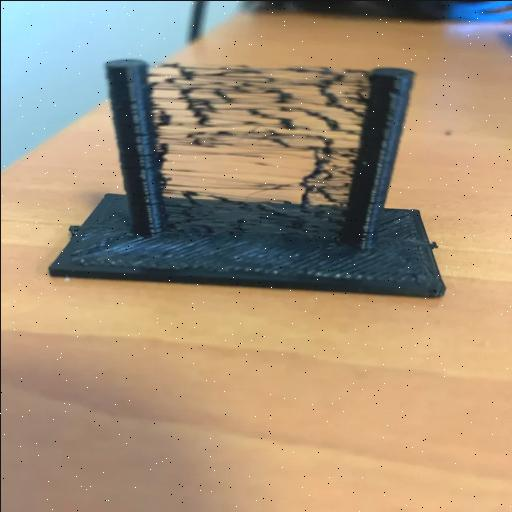stringing: (150, 60, 368, 202)
